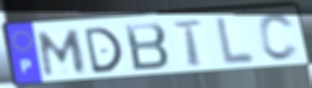B: (122, 21, 172, 73)
C: (257, 12, 301, 63)
D: (82, 25, 125, 76)
L: (214, 15, 258, 67)
M: (37, 28, 88, 79)
T: (171, 19, 206, 69)
